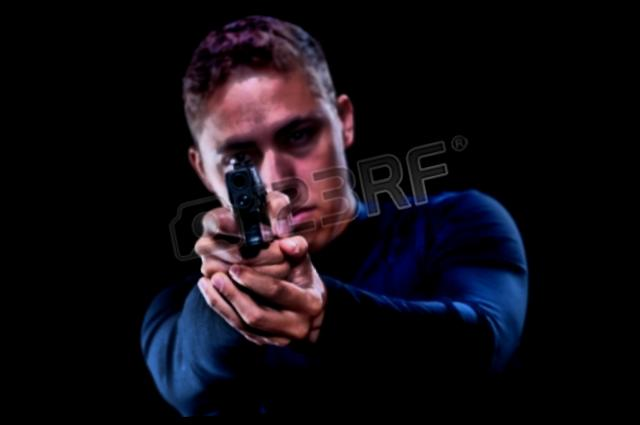pistol: (217, 156, 277, 256)
